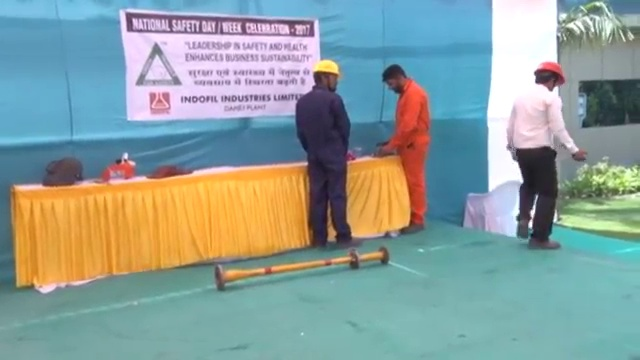helmet: (534, 59, 567, 86), (311, 57, 343, 78)
helmet_off: (382, 63, 413, 95)
helmet_on: (309, 55, 345, 92), (532, 58, 567, 94)
person: (508, 58, 588, 255), (294, 56, 362, 248), (380, 62, 429, 235)
